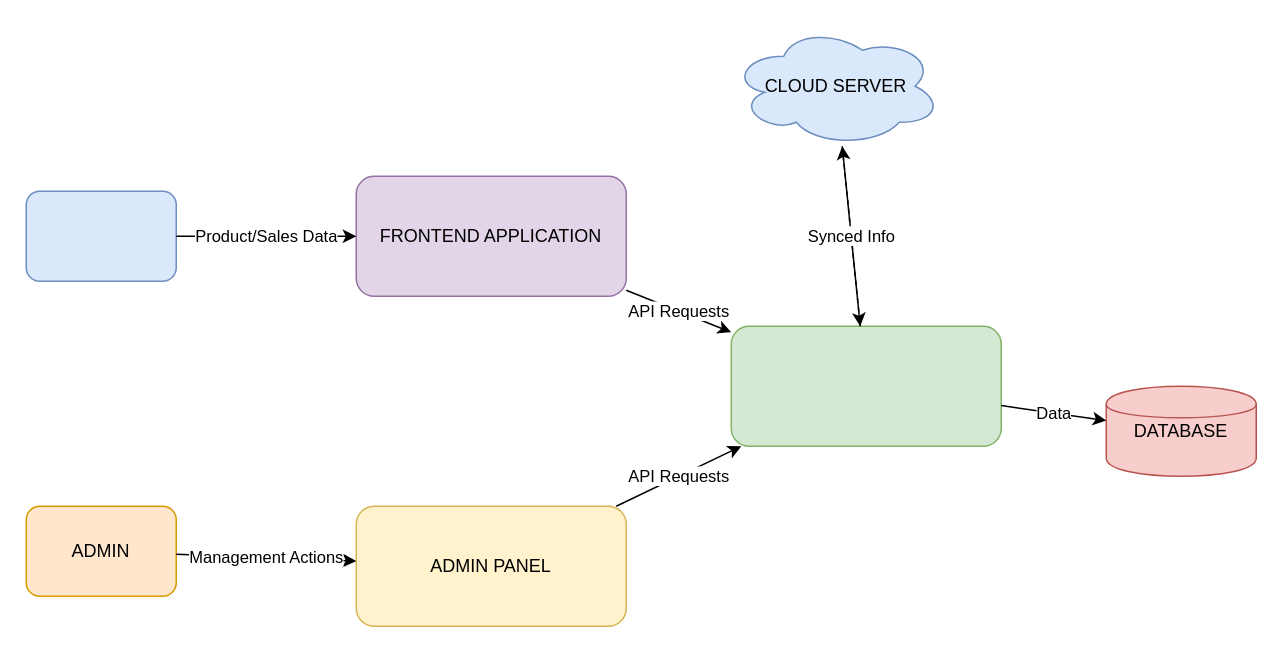
This 1283x653 diagram has some shape labels left out. Here are the shapes that lost their labels. From the top down, the box of each, then its label:
(25, 190, 176, 281): VENDOR
(730, 325, 1001, 446): BACKEND API/SERVICE
